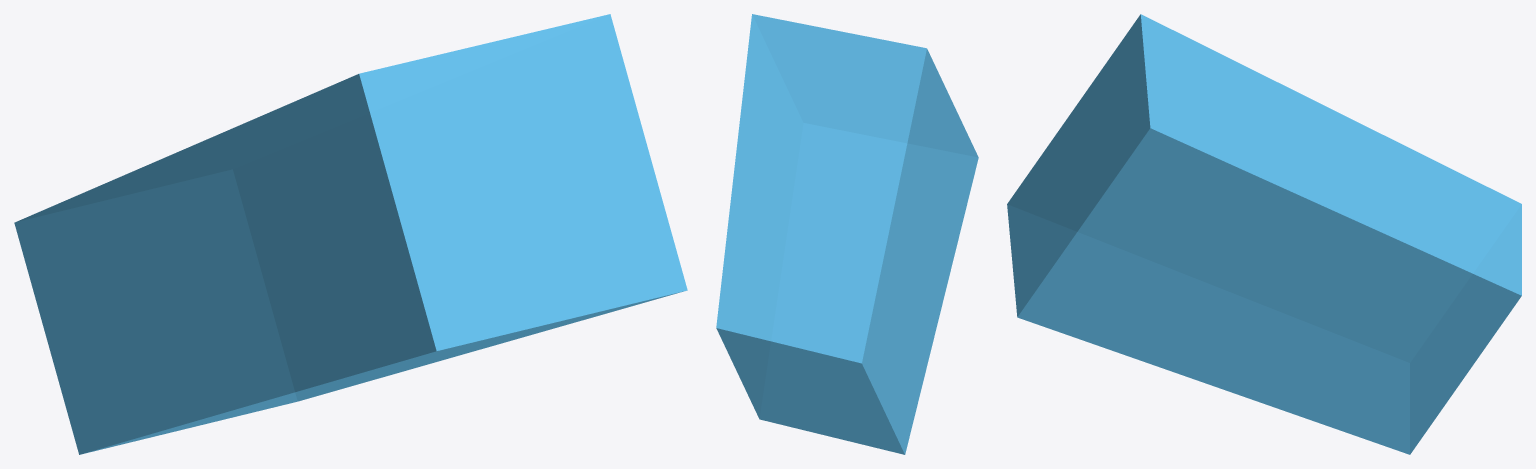
Rendered from Event_420107950_HBrechit_19.fbx.
3 views of the same model, side by side, from view 1: azimuth 30°, elevation 25°; view 2: azimuth 150°, elevation 25°; view 3: azimuth 270°, elevation 25° (orthographic). The views are drawn at different scales.
Parts seen in each view (by area): view 1: Model; view 2: Model; view 3: Model.
Part boxes in pixels (bbox=[...]): Model: bbox=[14, 14, 687, 454]; Model: bbox=[716, 14, 978, 454]; Model: bbox=[1007, 14, 1521, 454].
Bounding box in the file's own units: 0.7302 × 0.8538 × 0.9934.
